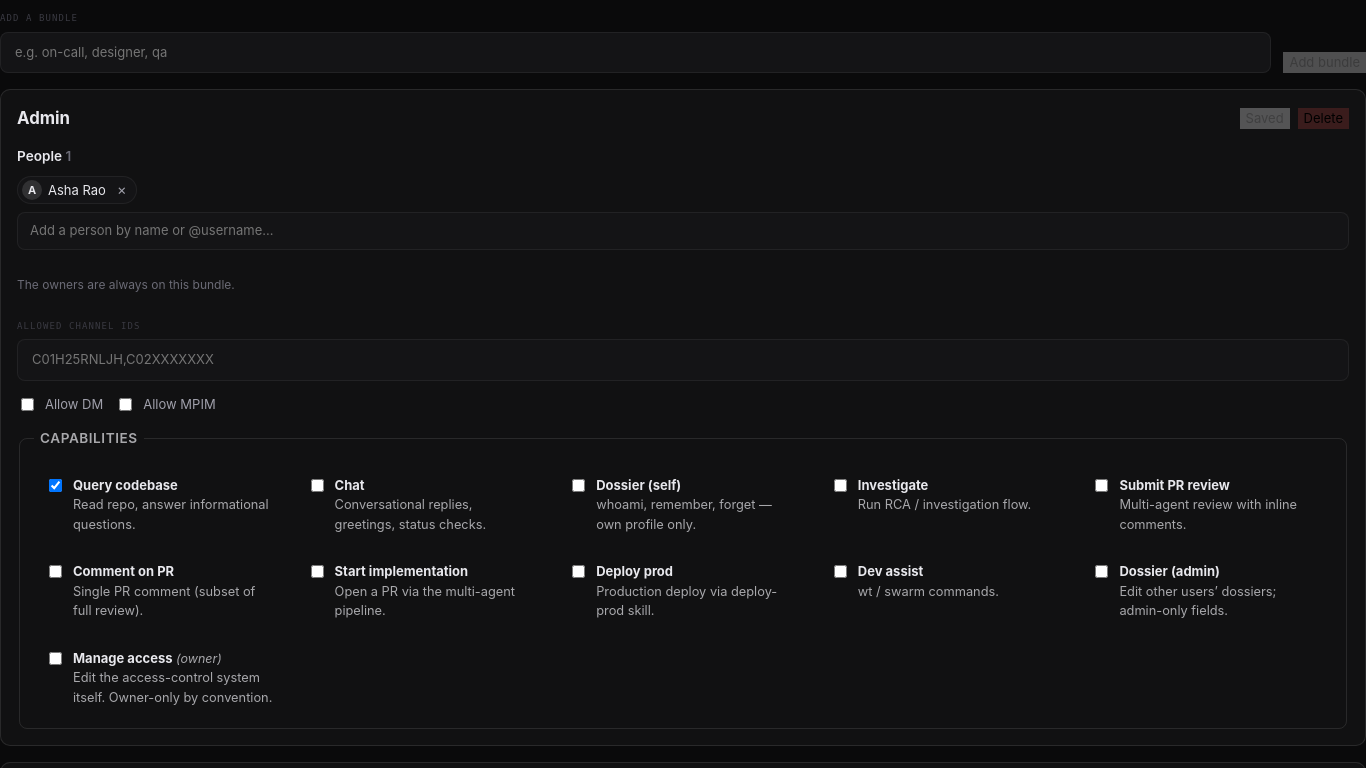
Scenario: BundleEditor › shows the stored bundle when it changed since the page read it, instead of writing over it
The image size is (1366, 768).
Click the button named "Remove Asha Rao": [122, 190] box [112, 180, 132, 200]
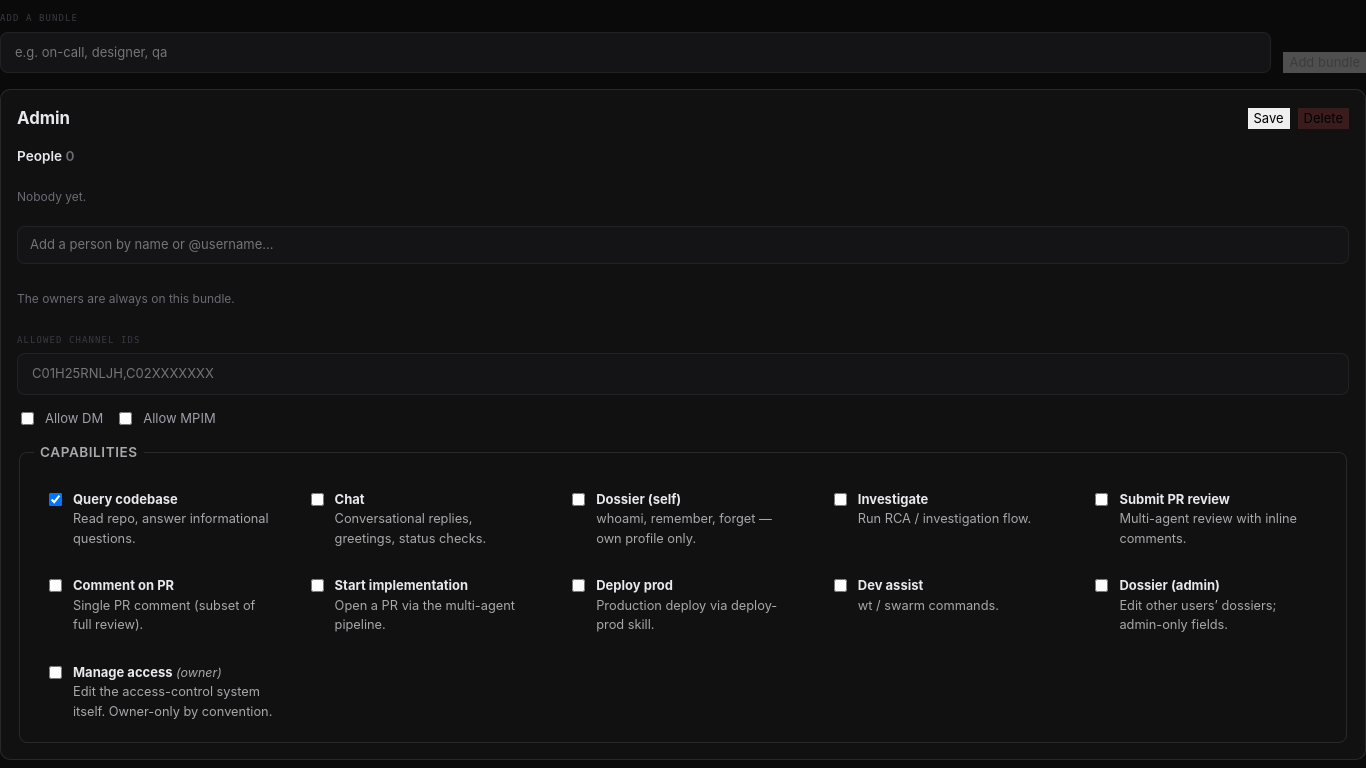
Click the button "Save": [1269, 119] box [1248, 108, 1290, 129]
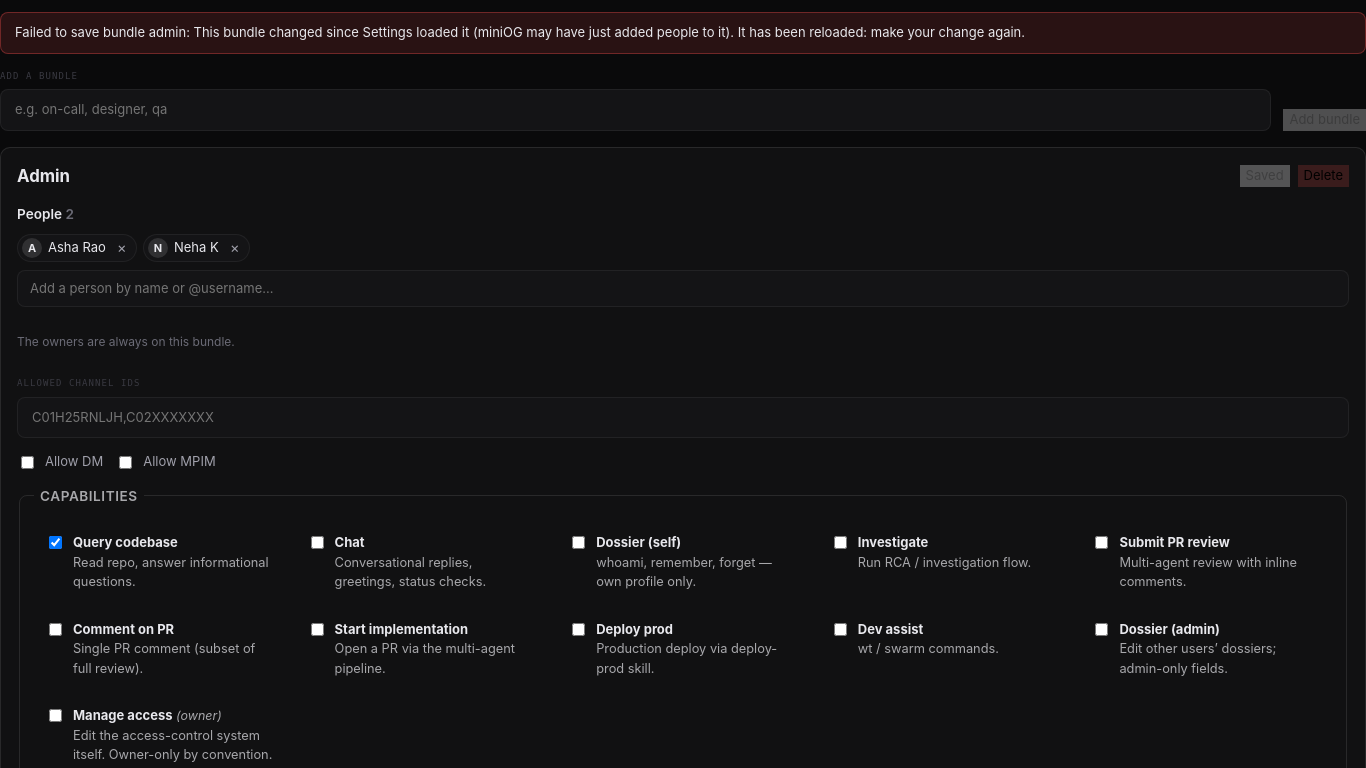
expect the button named "Remove Neha K" is shown: met, box [225, 238, 245, 258]
expect the button named "Remove Asha Rao" is shown: met, box [112, 238, 132, 258]
